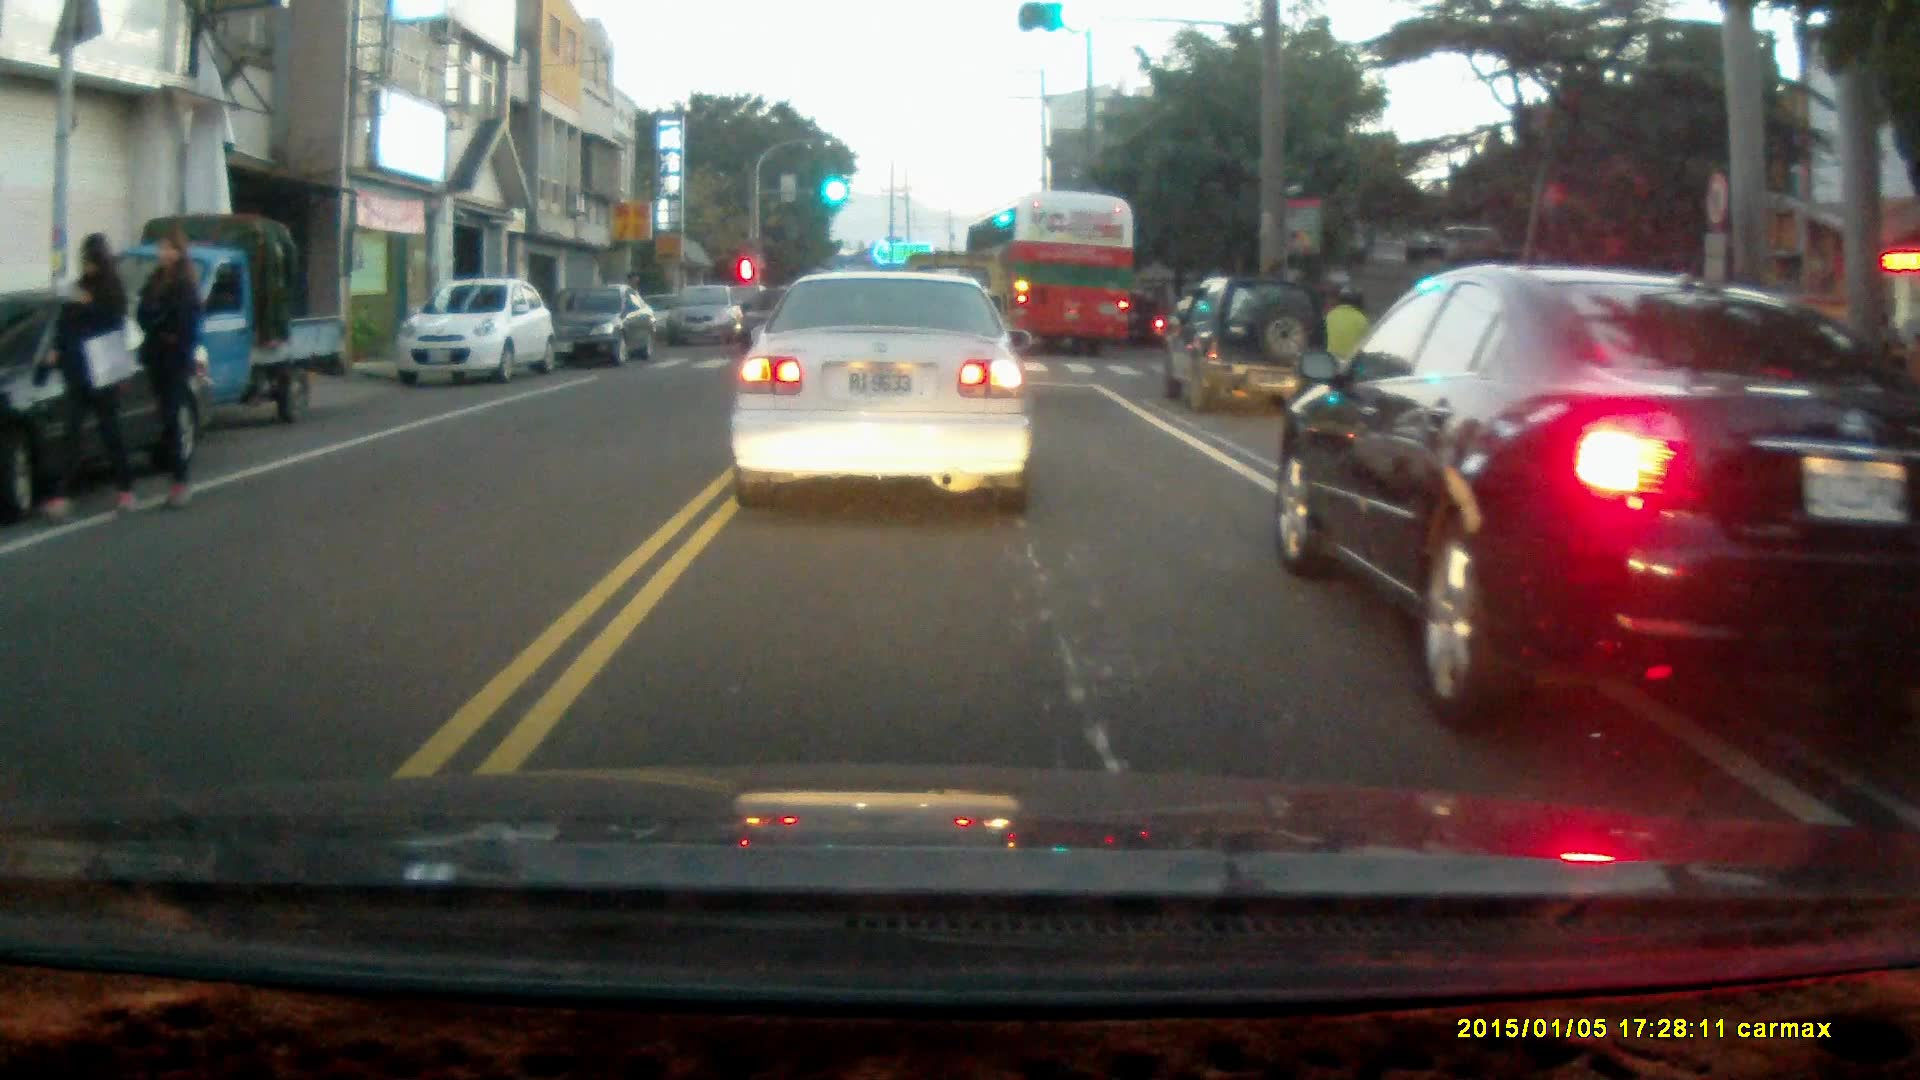pedestrian: (45, 231, 140, 518), (133, 228, 205, 511)
rider: (1318, 284, 1379, 417), (1116, 292, 1166, 351)
vehicle: (1274, 268, 1920, 726), (729, 266, 1035, 517), (91, 213, 345, 426), (1, 284, 213, 515), (963, 194, 1134, 359), (1164, 275, 1333, 417), (397, 280, 552, 387), (547, 280, 662, 370), (662, 286, 747, 352)
